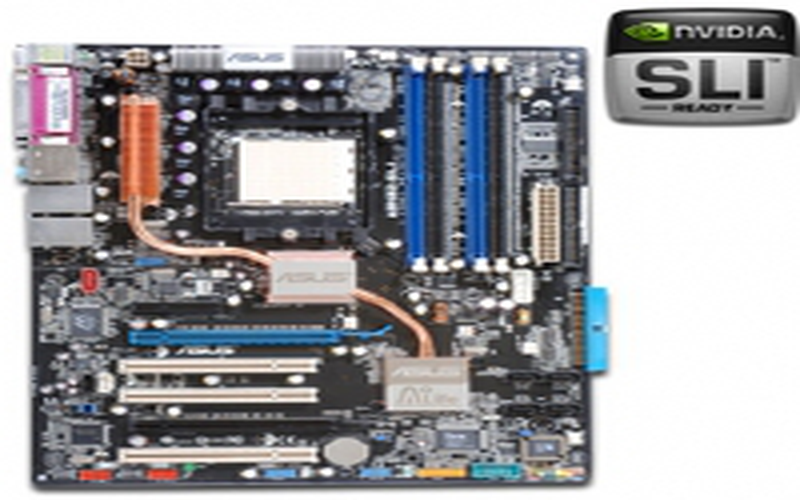Cirtuit-Board: (8, 31, 615, 494)
